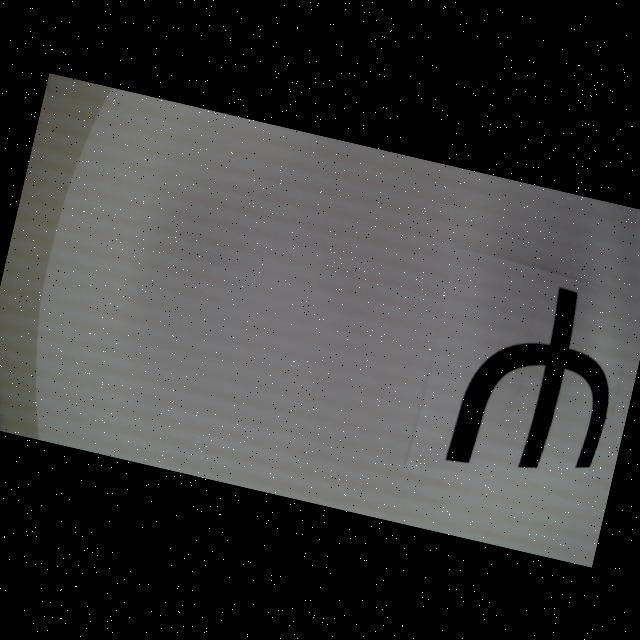PSI: (444, 270, 631, 493)
